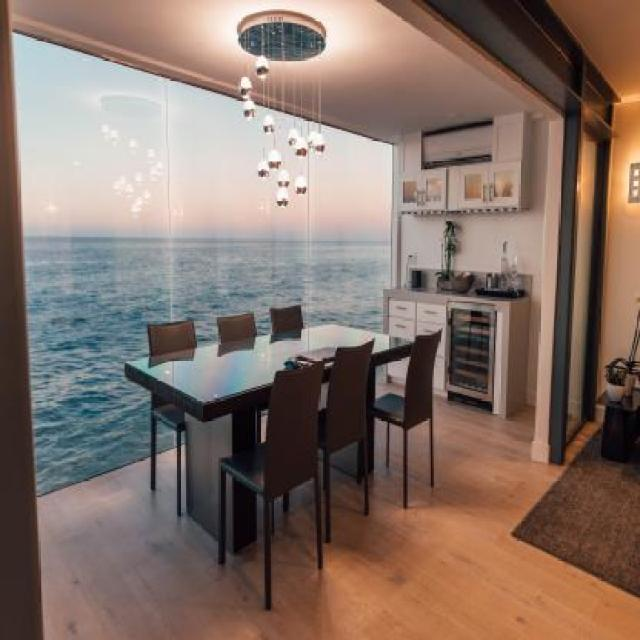floor: (38, 393, 640, 640), (376, 379, 404, 400), (318, 383, 328, 411), (260, 409, 267, 444)
